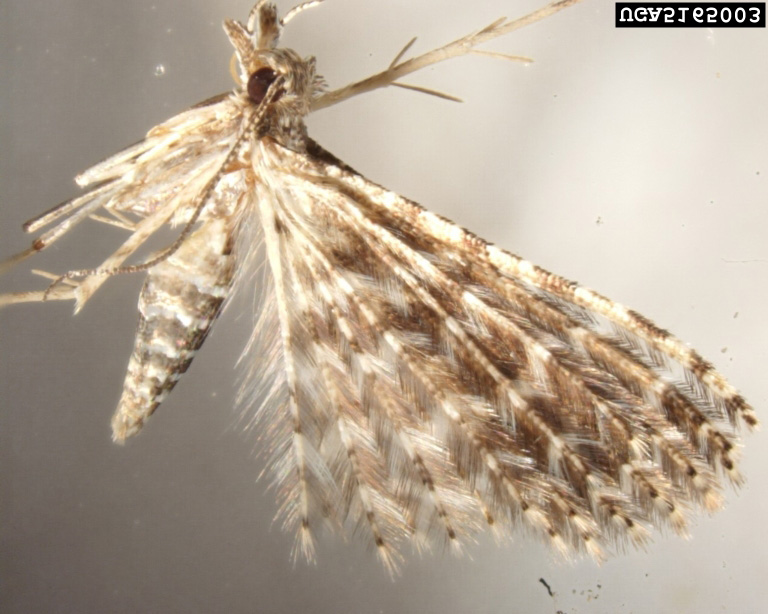Alucitidae: (3, 1, 766, 579)
moth: (5, 3, 768, 581)
